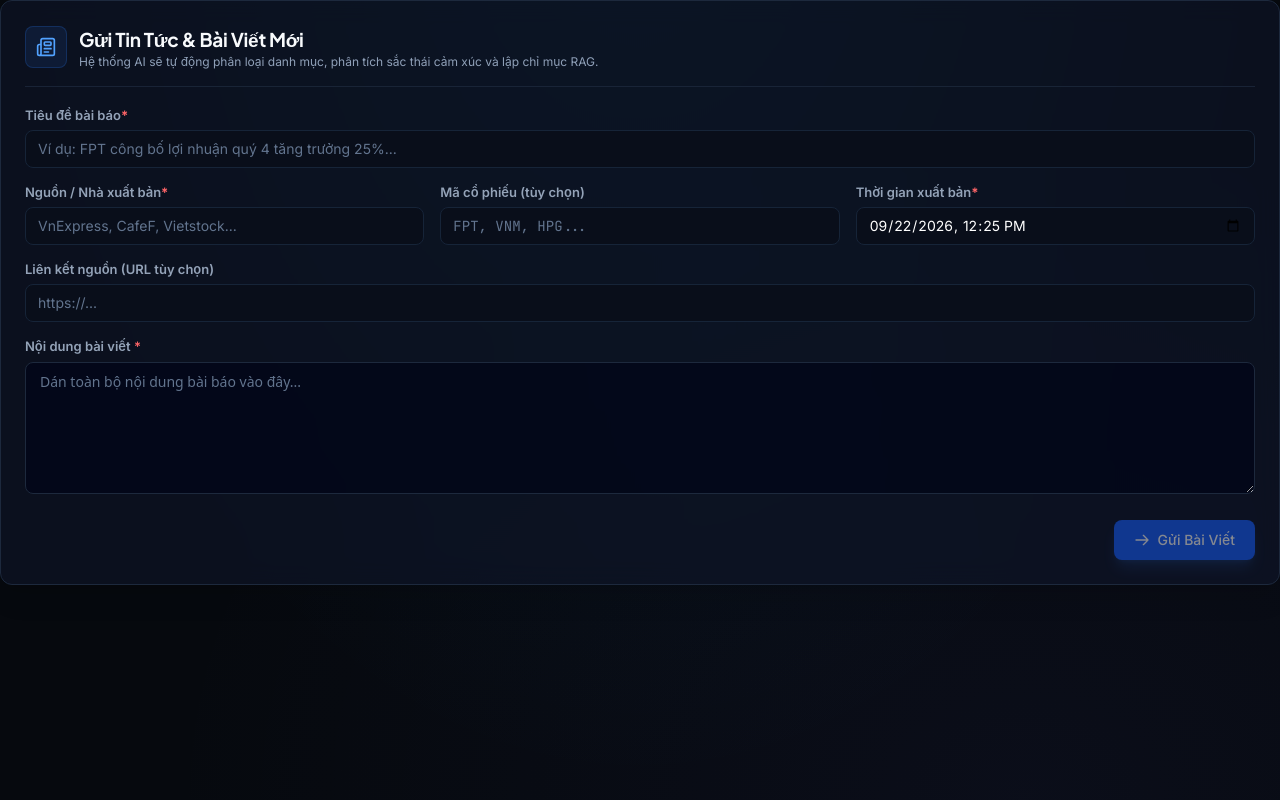
Test case: NewsSubmit Component › renders form inputs and submits successfully
The width and height of the screenshot is (1280, 800).
Type "FPT công bố lợi nhuận quý 4" into the field labelled "Tiêu đề bài báo*" at [640, 149], box [25,130,1255,168]
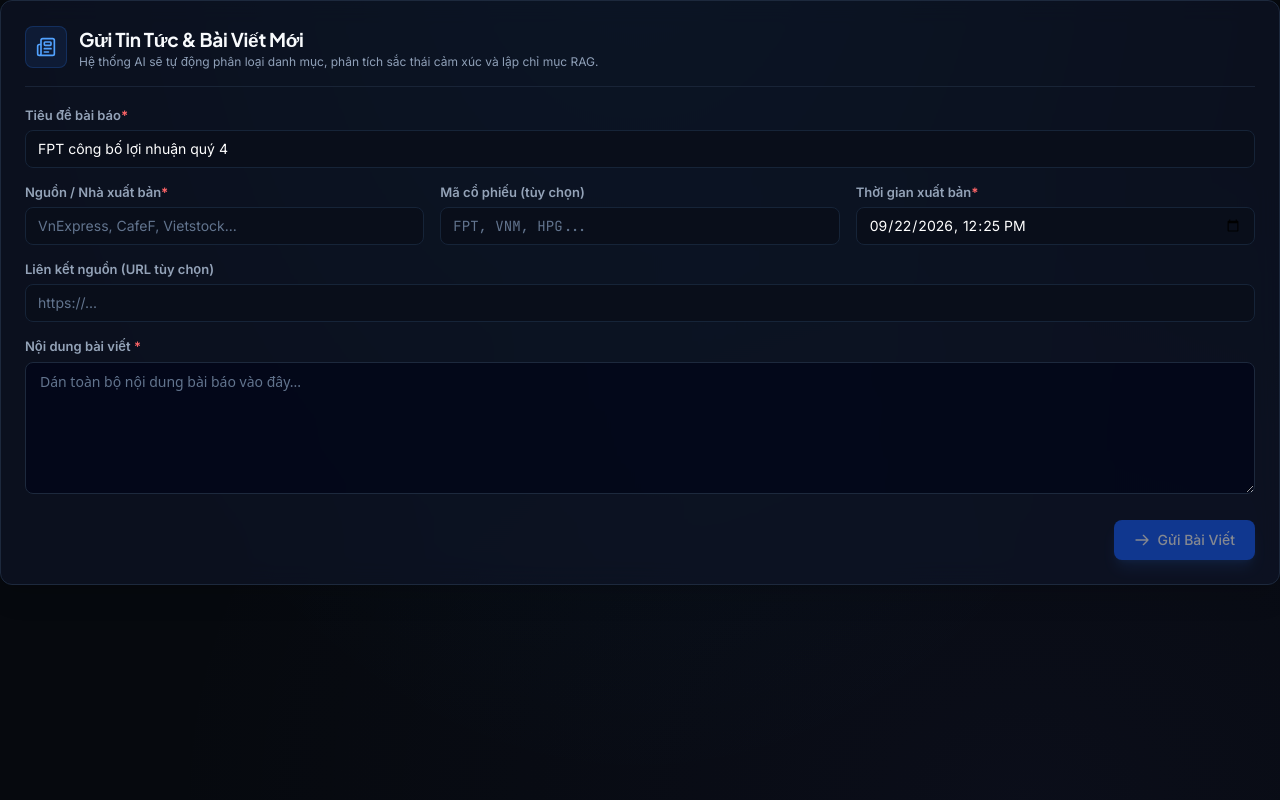
Type "VnExpress" into the field labelled "Nguồn / Nhà xuất bản*" at [225, 226], box [25,207,424,245]
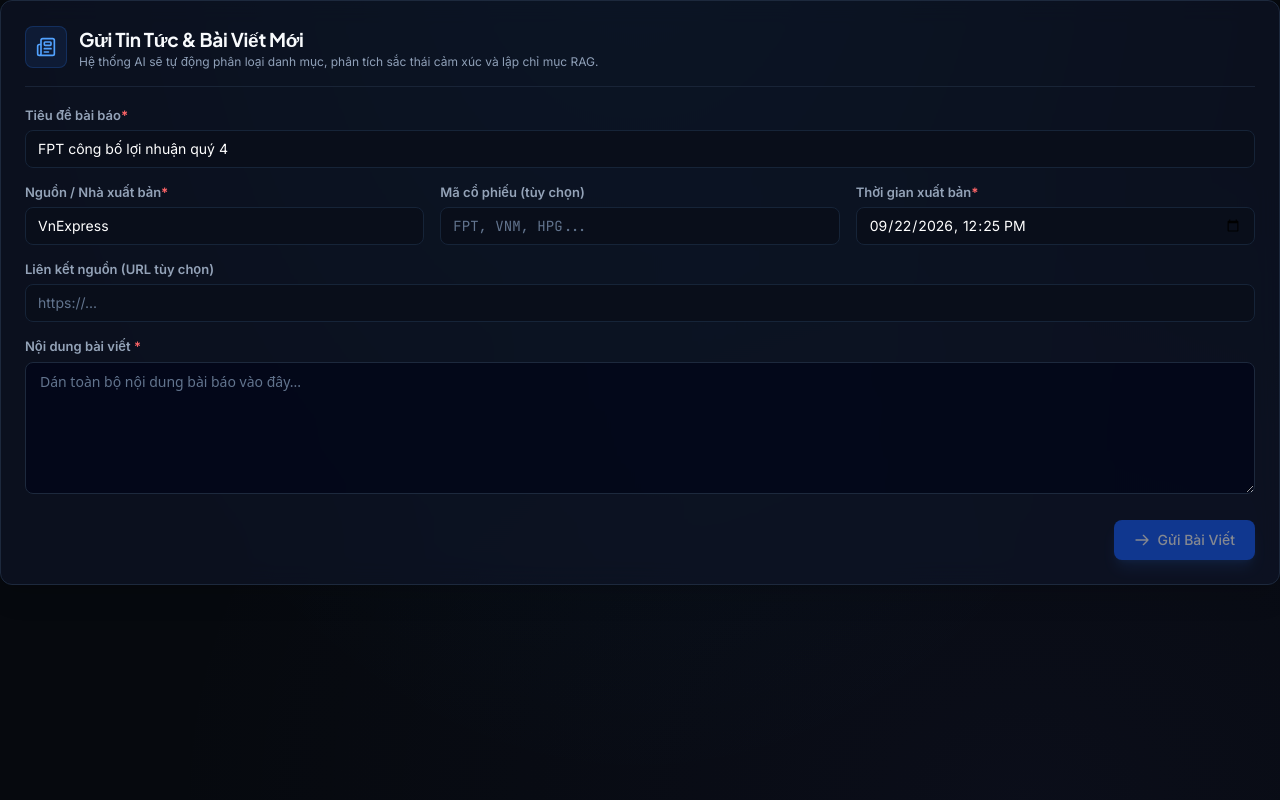
Type "Nội dung bài viết chi tiết về FPT..." into the text box labelled "Nội dung bài viết *" at [640, 428], box [25,362,1255,494]
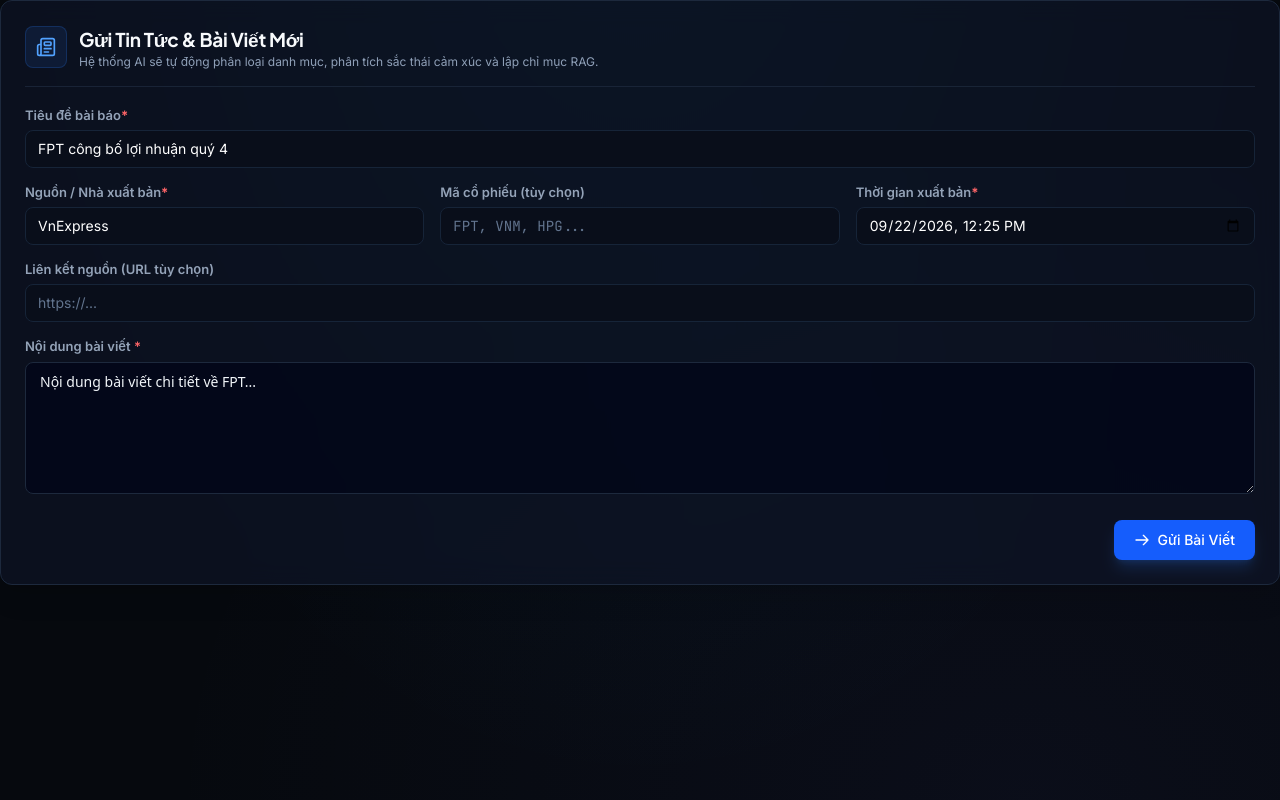
Click the button "Gửi Bài Viết" at [1184, 540], box [1114,520,1255,560]
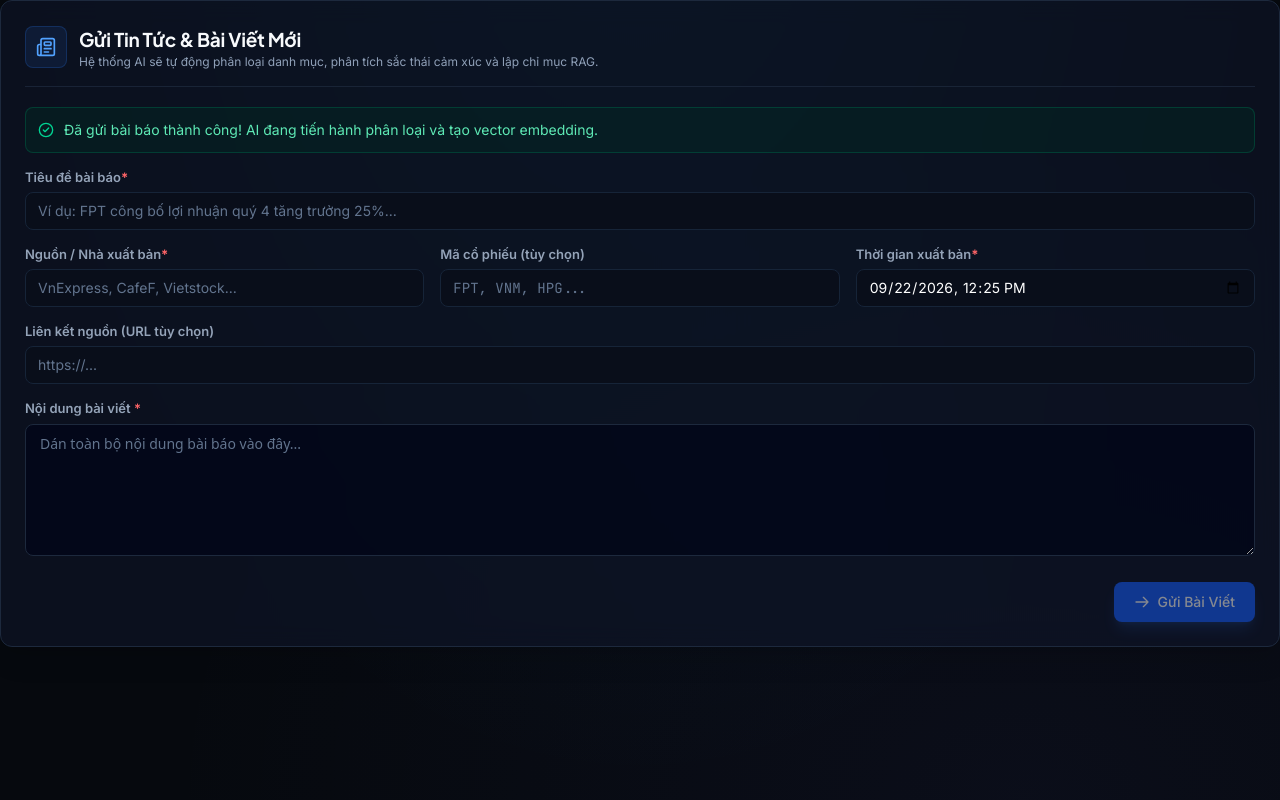
Now the text "Đã gửi bài báo thành công!" is shown, box [64,120,598,138]
